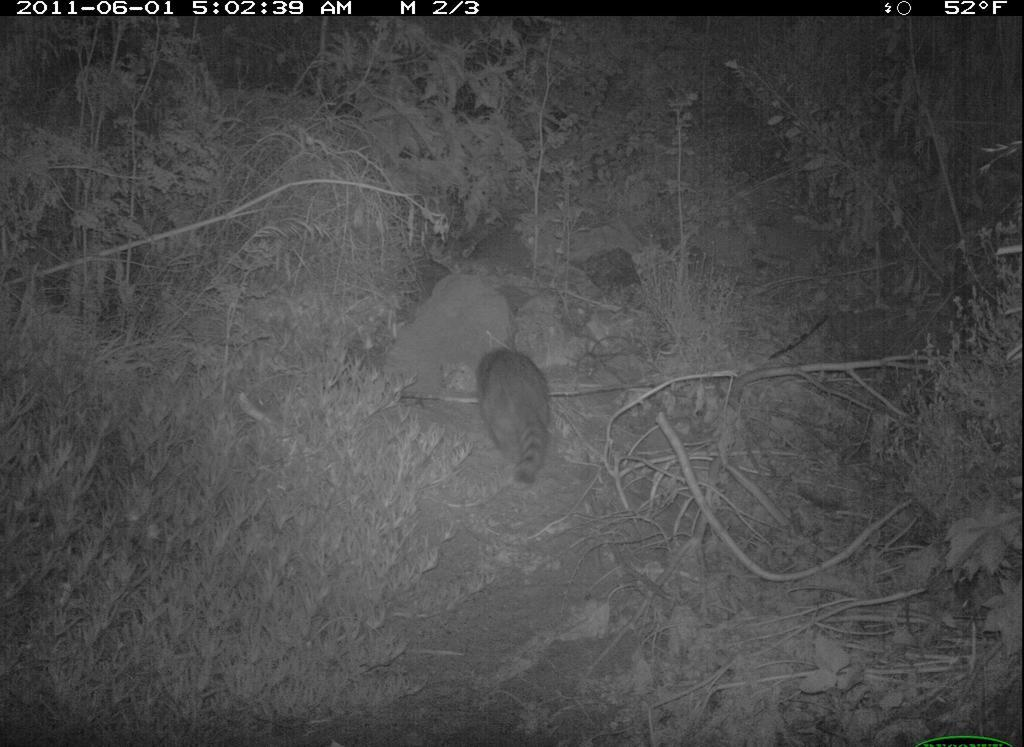raccoon: (466, 338, 562, 491)
